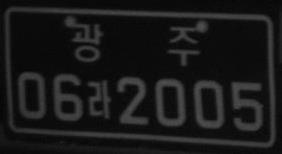0: (192, 79, 225, 130), (154, 78, 187, 127), (16, 70, 47, 120)
2: (116, 75, 150, 126)
5: (229, 80, 265, 132)
6: (52, 72, 83, 122)
광주_D: (70, 21, 201, 66)
라: (87, 79, 111, 119)
